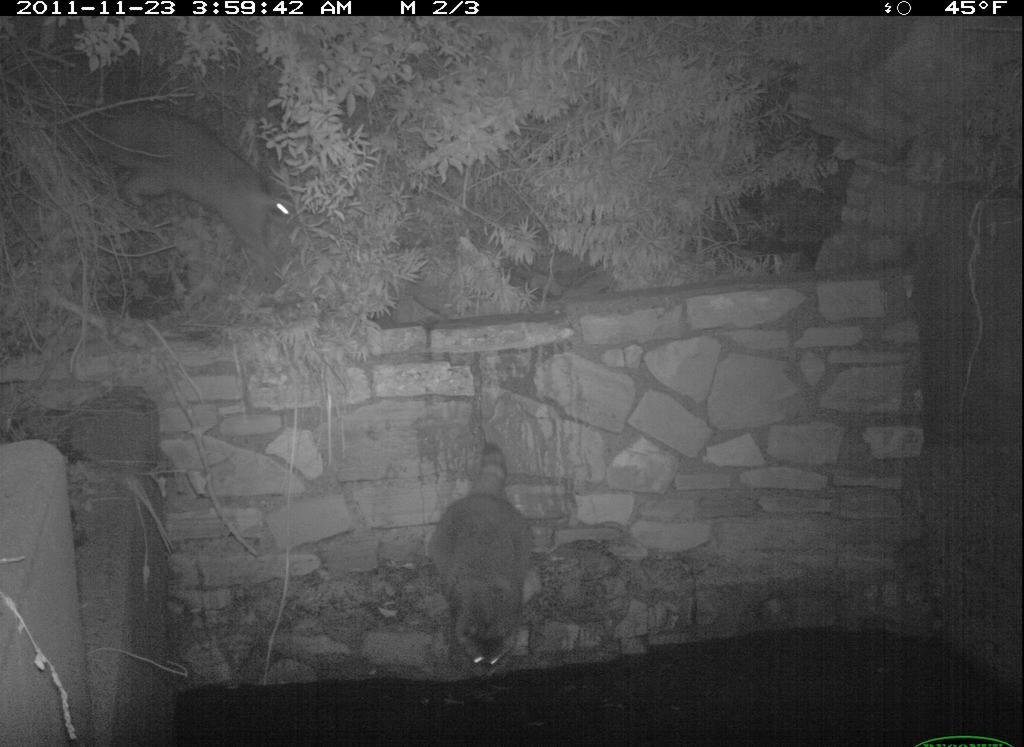raccoon: (73, 94, 317, 278), (425, 442, 574, 684)
